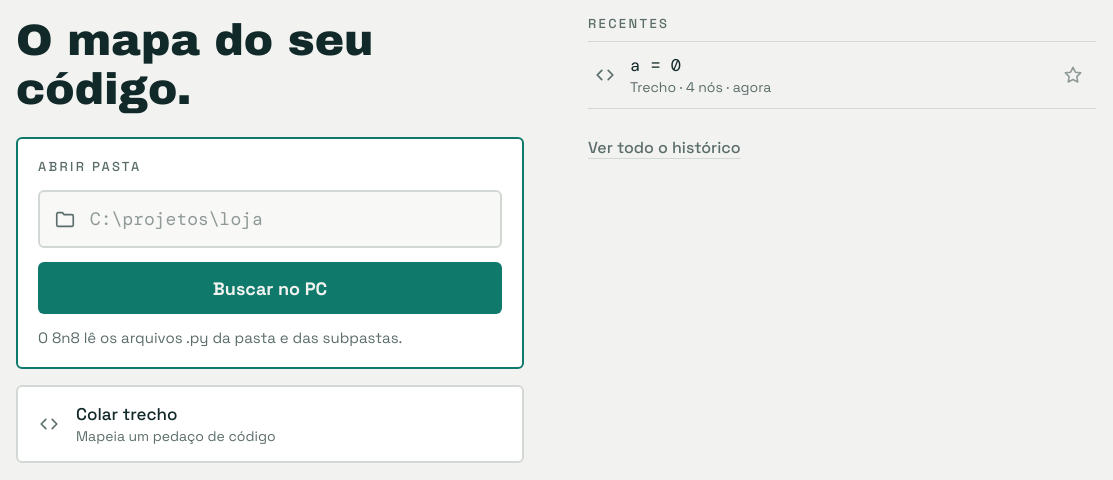
Scenario: Home › shows an error and keeps the star when starring fails
Expected: the element "Recentes" is shown, [588, 16, 1096, 109]
Click the button named "Pôr a = 0 nos favoritos": (1073, 75) [1050, 42, 1096, 108]
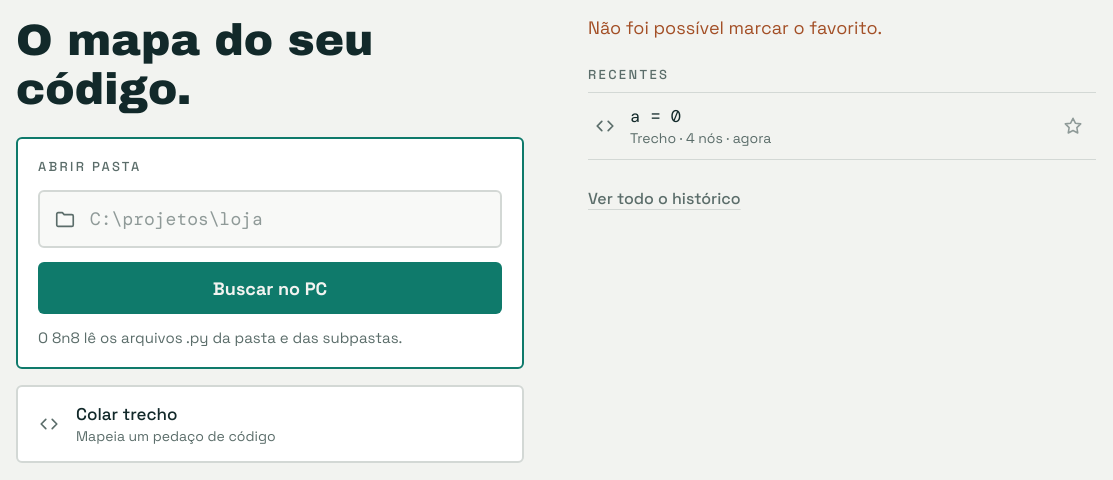
Now the message reads "Não foi possível marcar o favorito.", box [588, 16, 882, 39]
